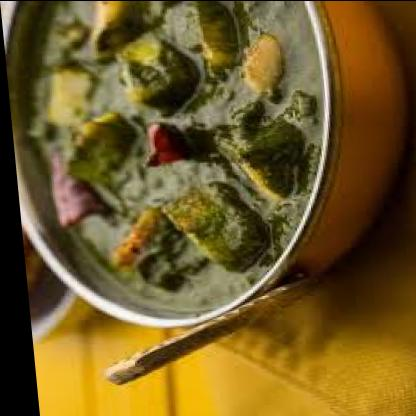palak_paneer: (14, 0, 337, 313)
